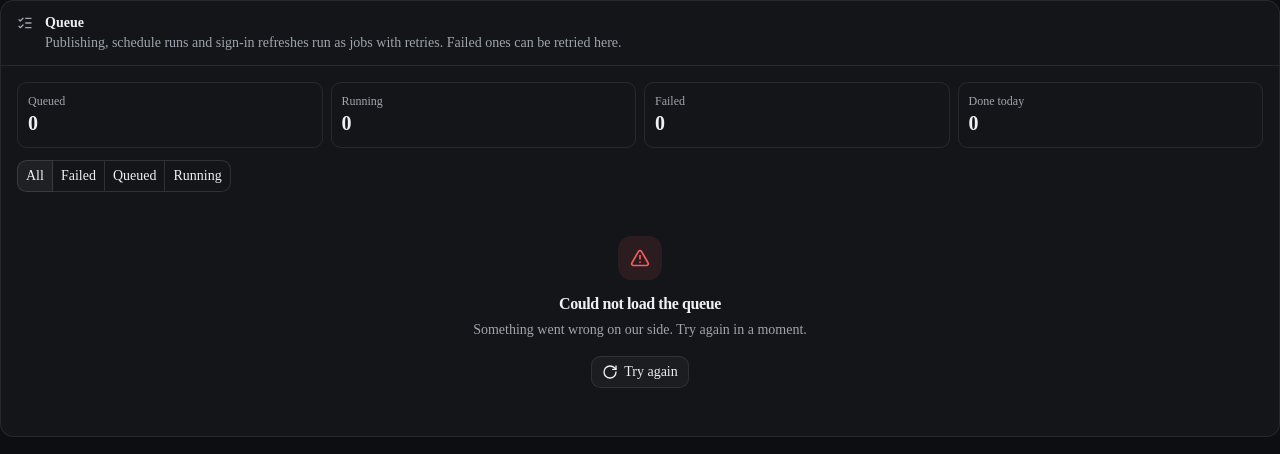
Test: reads that fail › a queue that cannot load says so, and Try again loads it
Expected: the text "Could not load the queue" is shown, [559,295,721,312]
Expected: the text "Nothing in the queue" is not shown
Click the button "Try again".
click(640, 372)  # box [591,356,689,388]
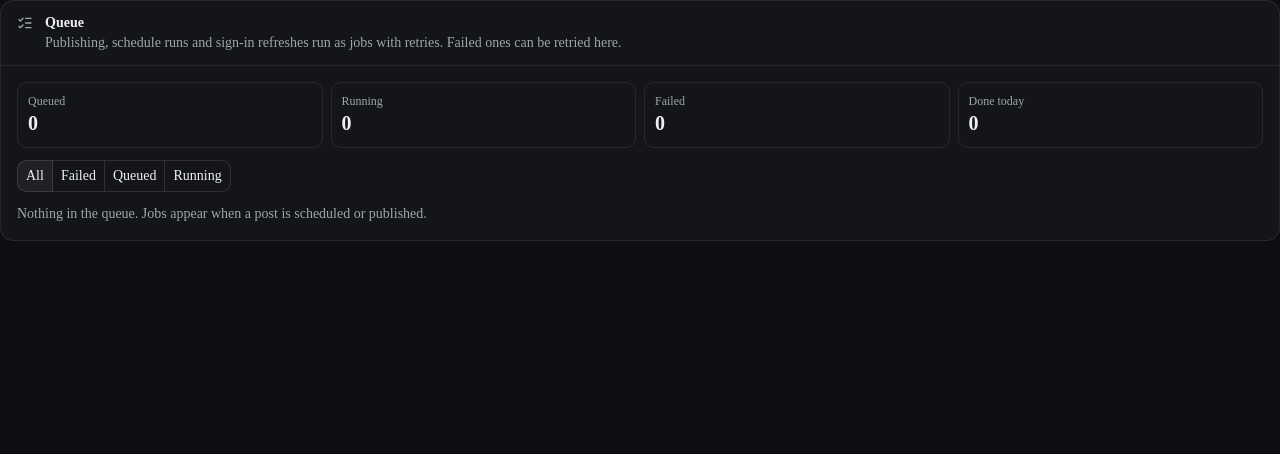
Now the text "Nothing in the queue" is shown, box [17,206,427,221]
